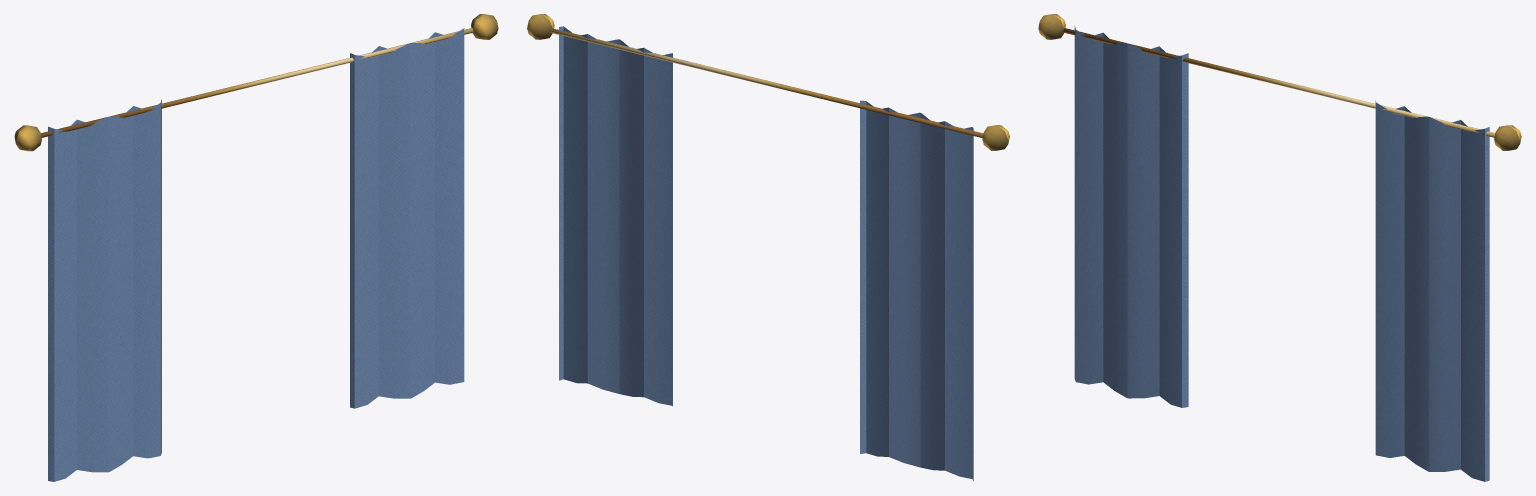
The model's file is Straight_Curtains_15.FBX.
3 renders of one model, left to right at view 1: azimuth 30°, elevation 25°; view 2: azimuth 150°, elevation 25°; view 3: azimuth 330°, elevation 25°, orthographic.
Parts seen in each view (by area): view 1: Straight_Curtain; view 2: Straight_Curtain; view 3: Straight_Curtain.
Boxes of the visible parts, x1,y1,x2,y2 form: Straight_Curtain: (14, 14, 498, 481); Straight_Curtain: (527, 14, 1009, 481); Straight_Curtain: (1038, 14, 1521, 481).
Size of the model in its own units: 582 by 421 by 29.96.
